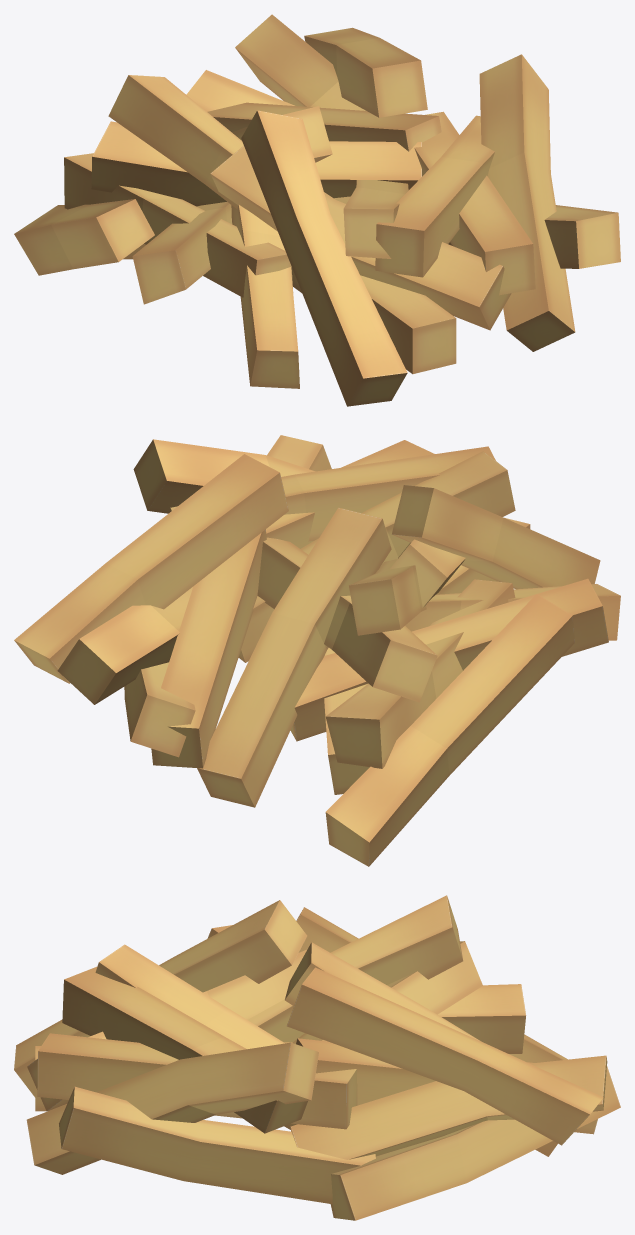
Rendered from FriesCooked.fbx.
The picture shows the model from 3 angles, top to bottom: view 1: azimuth 30°, elevation 25°; view 2: azimuth 150°, elevation 25°; view 3: azimuth 270°, elevation 25°; orthographic projection. The views are drawn at different scales.
Visible parts, largest first — view 1: FriesCooked; view 2: FriesCooked; view 3: FriesCooked.
Boxes of the visible parts, bbox=[...] form: FriesCooked: bbox=[14, 14, 620, 406]; FriesCooked: bbox=[14, 435, 620, 866]; FriesCooked: bbox=[14, 895, 620, 1220].
Bounding box in the file's own units: 175 × 94.73 × 213.
Materials: 1 (1 with a texture image).
